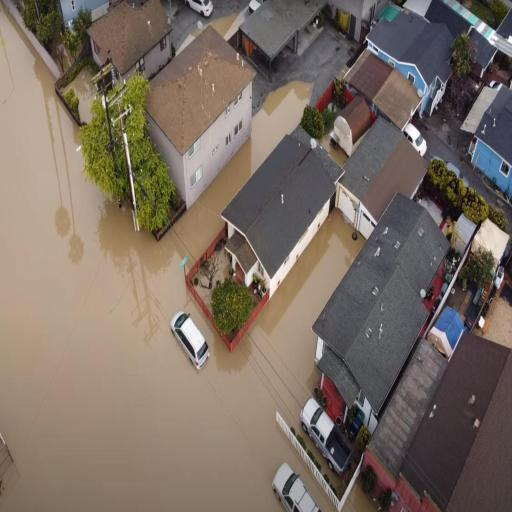flood: (0, 6, 364, 511), (343, 477, 378, 512)
house: (314, 190, 452, 425), (398, 324, 512, 512), (220, 126, 346, 292), (145, 29, 255, 215), (333, 118, 430, 235), (369, 8, 454, 111), (81, 4, 176, 88), (463, 75, 512, 205), (236, 1, 317, 75), (322, 0, 380, 43), (52, 2, 116, 32)
